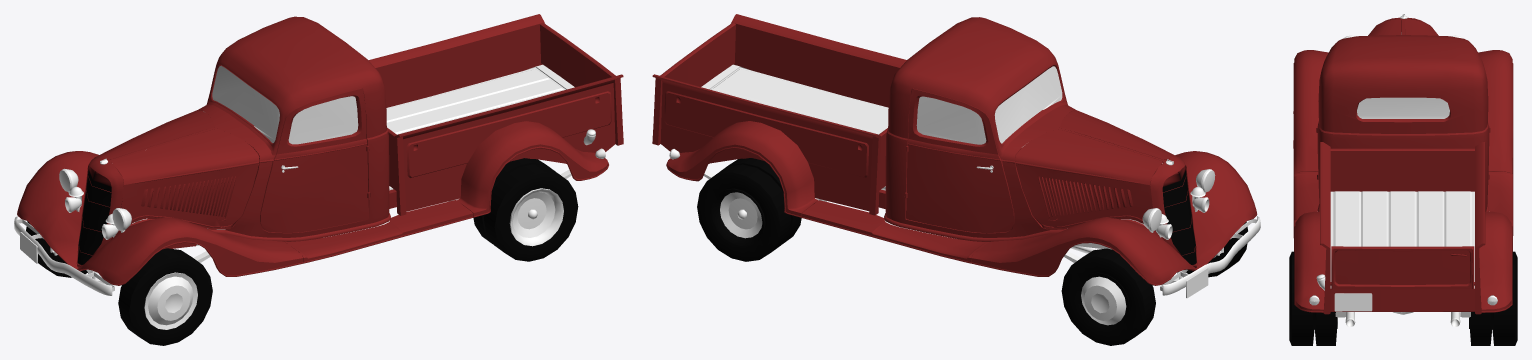
Rendered from Ford_PickupTruck5.fbx.
3 renders of one model, left to right at view 1: azimuth 30°, elevation 25°; view 2: azimuth 150°, elevation 25°; view 3: azimuth 270°, elevation 25°, orthographic. The views are drawn at different scales.
Parts seen in each view (by area): view 1: body, hood, door_left, wheel_02, fender_front_left, wheel_01, fender_rear_right, fender_front_right, bumper_front, headlight_right, headlight_left, wheel_04; view 2: body, hood, door_right, wheel_03, fender_front_right, wheel_04, fender_rear_left, fender_front_left, bumper_front, headlight_left, headlight_right, wheel_01; view 3: body, fender_front_right, fender_front_left, fender_rear_left, fender_rear_right, wheel_02, wheel_03, hood, numberplate_rear.
Boxes of the visible parts, left/top/right/bottom form: body: left=76, top=14, right=623, bottom=267; hood: left=96, top=110, right=259, bottom=230; door_left: left=260, top=88, right=370, bottom=232; wheel_02: left=473, top=158, right=578, bottom=261; fender_front_left: left=76, top=217, right=303, bottom=285; wheel_01: left=118, top=248, right=212, bottom=345; fender_rear_right: left=456, top=121, right=608, bottom=217; fender_front_right: left=17, top=151, right=98, bottom=268; bumper_front: left=14, top=216, right=114, bottom=295; headlight_right: left=59, top=168, right=83, bottom=212; headlight_left: left=101, top=208, right=131, bottom=239; wheel_04: left=26, top=221, right=87, bottom=277; body: left=652, top=14, right=1197, bottom=267; hood: left=1015, top=110, right=1178, bottom=231; door_right: left=904, top=88, right=1014, bottom=233; wheel_03: left=697, top=158, right=801, bottom=261; fender_front_right: left=971, top=217, right=1197, bottom=285; wheel_04: left=1061, top=248, right=1155, bottom=345; fender_rear_left: left=666, top=121, right=818, bottom=217; fender_front_left: left=1175, top=151, right=1257, bottom=268; bumper_front: left=1160, top=216, right=1260, bottom=298; headlight_left: left=1190, top=169, right=1215, bottom=212; headlight_right: left=1142, top=208, right=1172, bottom=239; wheel_01: left=1186, top=222, right=1247, bottom=277; body: left=1293, top=14, right=1513, bottom=326; fender_front_right: left=1478, top=50, right=1513, bottom=178; fender_front_left: left=1293, top=50, right=1328, bottom=178; fender_rear_left: left=1479, top=211, right=1512, bottom=312; fender_rear_right: left=1294, top=211, right=1326, bottom=312; wheel_02: left=1289, top=251, right=1337, bottom=345; wheel_03: left=1469, top=251, right=1517, bottom=345; hood: left=1368, top=19, right=1438, bottom=35; numberplate_rear: left=1334, top=293, right=1372, bottom=311.
Bounding box in the file's own units: 499 × 189 × 186.
